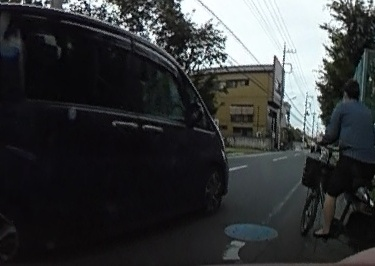person: (310, 72, 375, 242)
